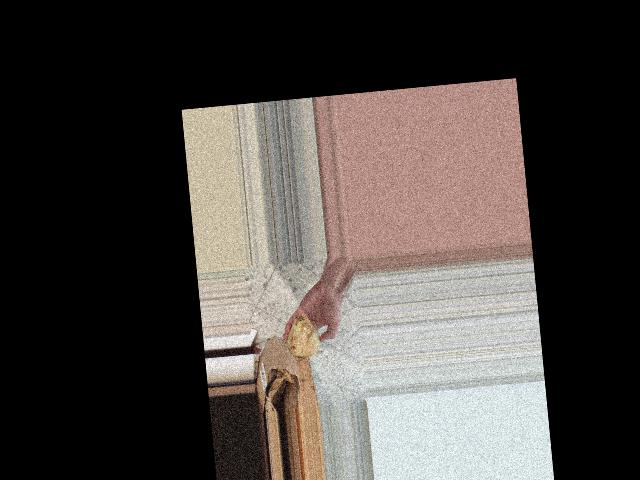onion: (284, 310, 321, 363)
